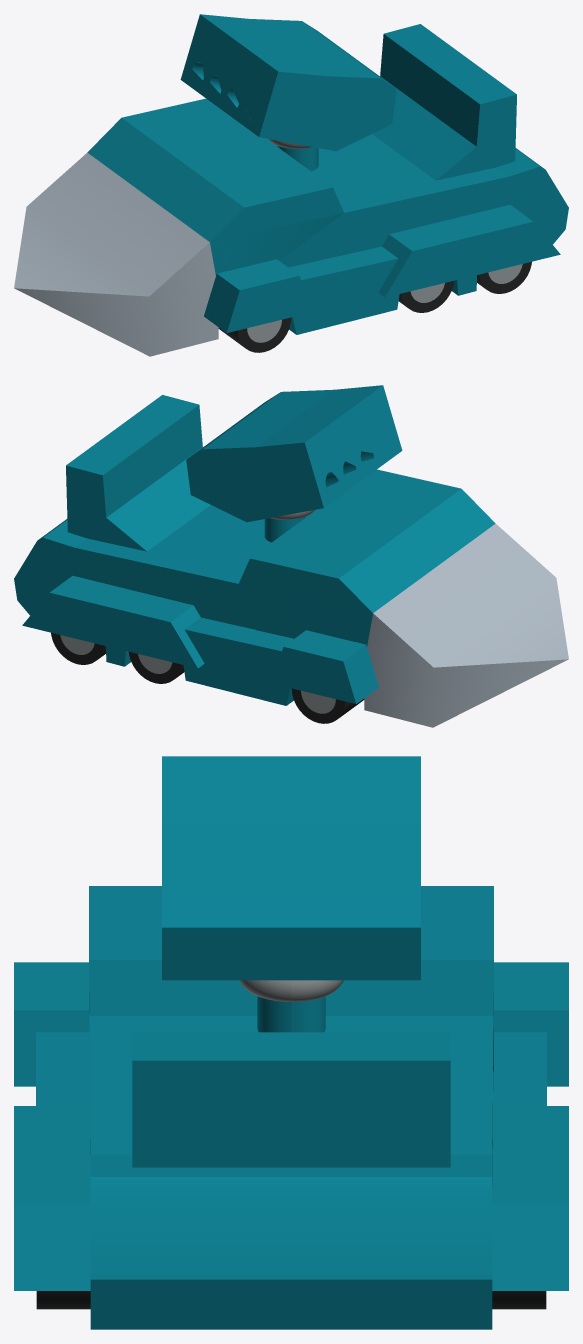
File: darat 1.fbx
3 renders of one model, top to bottom at view 1: azimuth 30°, elevation 25°; view 2: azimuth 150°, elevation 25°; view 3: azimuth 270°, elevation 25°, orthographic. The views are drawn at different scales.
Parts seen in each view (by area): view 1: Circle; view 2: Circle; view 3: Circle.
Boxes of the visible parts, box(x1,y1,x2,y2) form: Circle: box(14, 14, 568, 356); Circle: box(14, 385, 568, 727); Circle: box(14, 756, 568, 1329).
Bounding box in the file's own units: 18.51 × 8.59 × 10.92.
